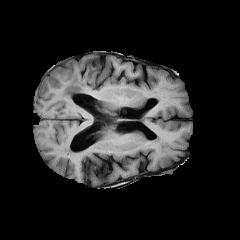glioma: (60, 66, 96, 107)
